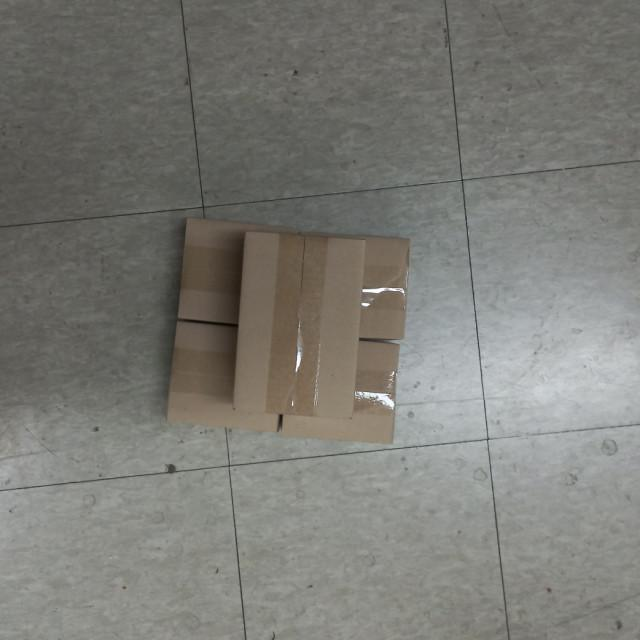box: (228, 222, 371, 426)
